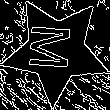M_E: (30, 26, 83, 76)
